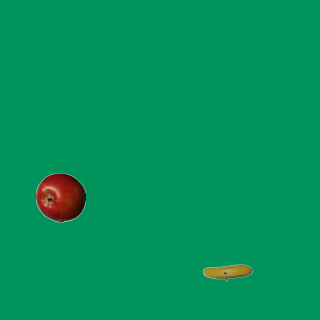Apple Braeburn: (35, 172, 85, 222)
Banana: (202, 247, 252, 297)
